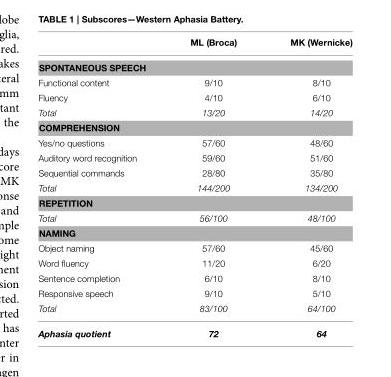table: (37, 37, 351, 337)
table column: (37, 37, 162, 337), (162, 37, 262, 337), (262, 37, 351, 337)
table column header: (37, 37, 351, 54)
table projected row header: (37, 54, 351, 75), (37, 120, 351, 135), (37, 195, 351, 210), (37, 225, 351, 240)
table row: (37, 54, 351, 75), (37, 301, 351, 321), (37, 37, 351, 54), (37, 285, 351, 301), (37, 321, 351, 337), (37, 75, 351, 90), (37, 90, 351, 105), (37, 105, 351, 120), (37, 120, 351, 135), (37, 135, 351, 150), (37, 150, 351, 165), (37, 165, 351, 180), (37, 180, 351, 195), (37, 195, 351, 210), (37, 210, 351, 225), (37, 225, 351, 240), (37, 240, 351, 255), (37, 255, 351, 270), (37, 270, 351, 285)
